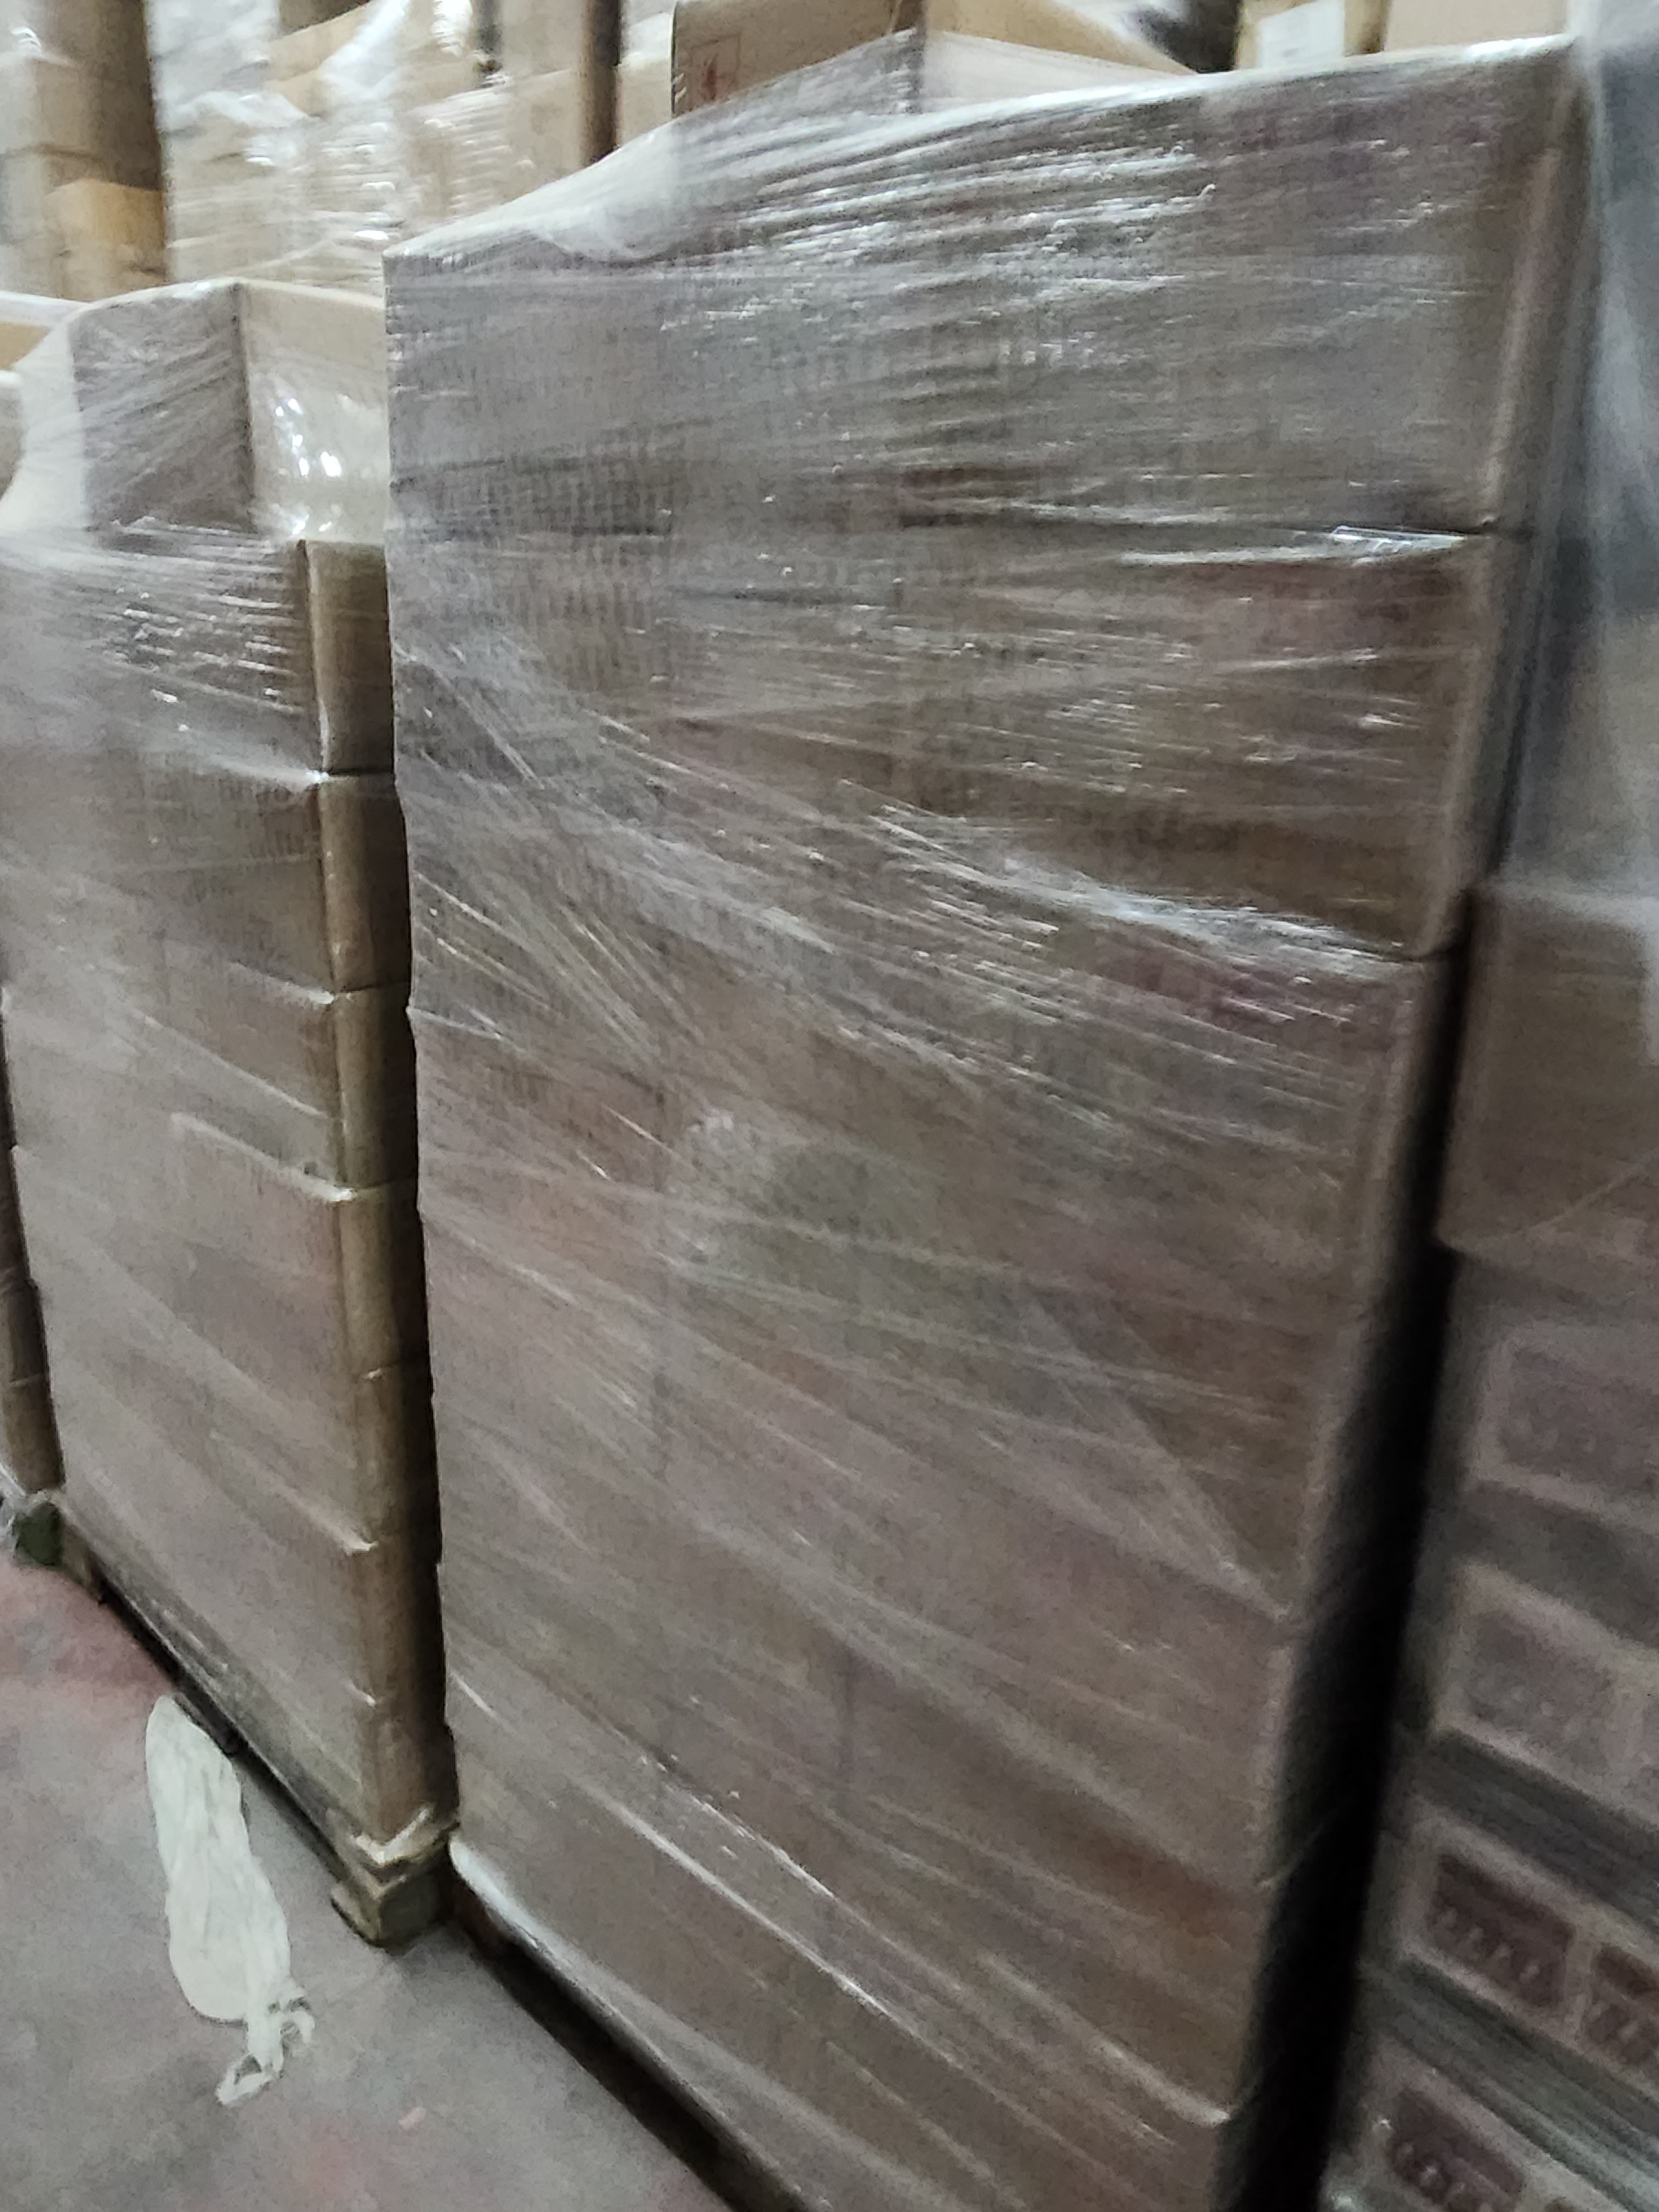box: (362, 143, 1387, 2189)
